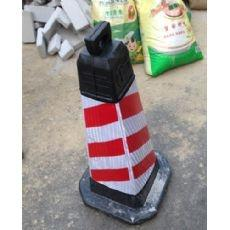cone_barrel: (73, 26, 160, 212)
